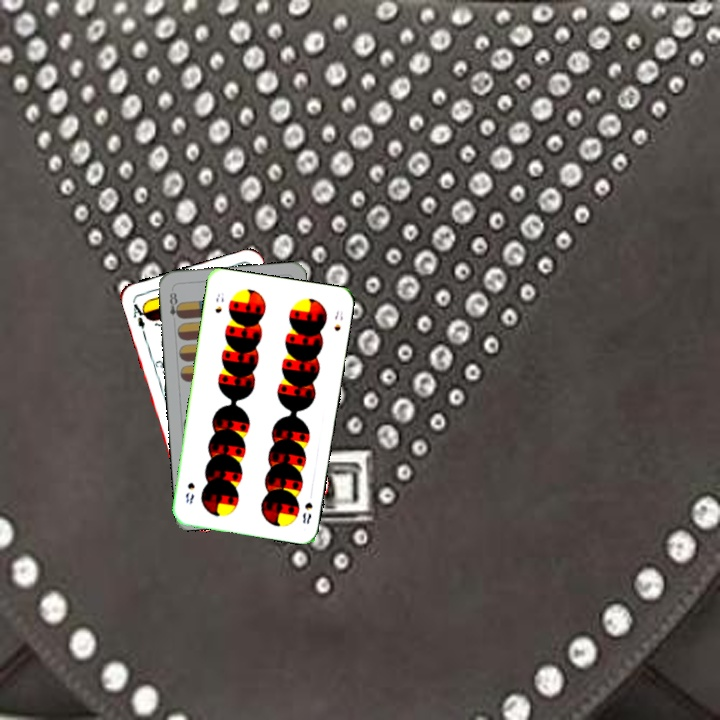E8: (166, 285, 183, 321)
EA: (129, 297, 150, 331)
S8: (298, 498, 315, 526), (211, 289, 226, 315)
